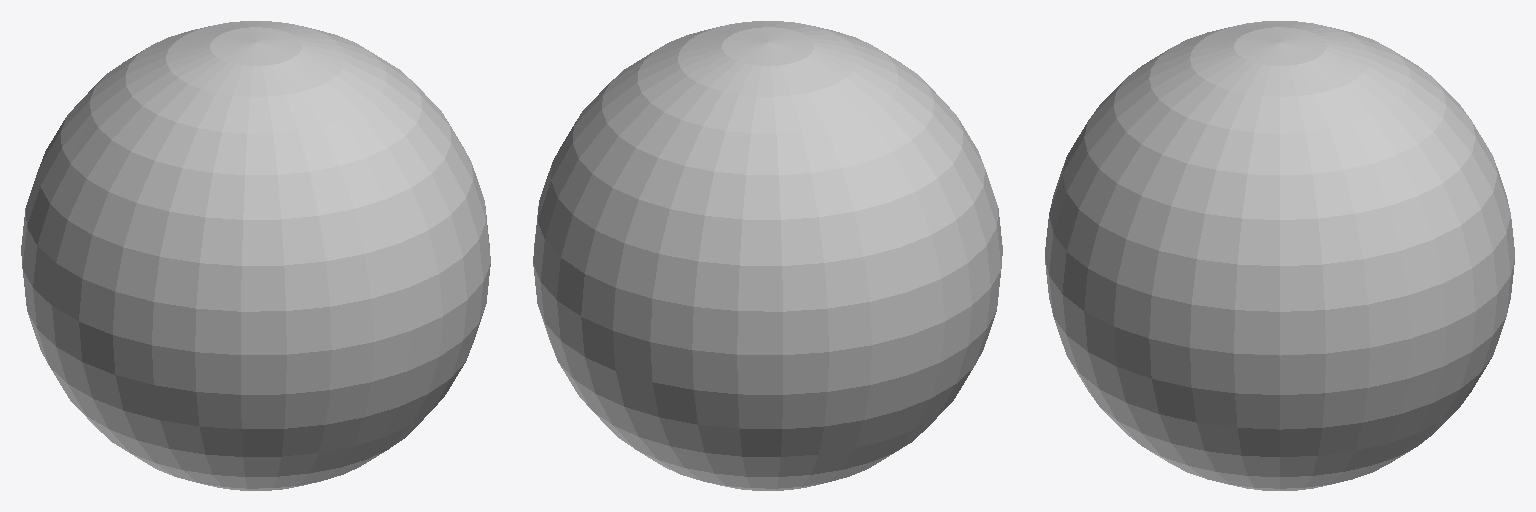
File: Speaker.004.obj
3 renders of one model, left to right at view 1: azimuth 30°, elevation 25°; view 2: azimuth 150°, elevation 25°; view 3: azimuth 270°, elevation 25°, orthographic.
Parts seen in each view (by area): view 1: Speaker.004_Sphere.003; view 2: Speaker.004_Sphere.003; view 3: Speaker.004_Sphere.003.
Part boxes in pixels (x1,y1,x2,y2): Speaker.004_Sphere.003: (21, 21, 490, 490); Speaker.004_Sphere.003: (533, 21, 1002, 490); Speaker.004_Sphere.003: (1045, 21, 1514, 490).
Size of the model in its own units: 0.0534 by 0.0534 by 0.0534.